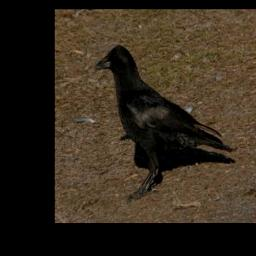Crow: (98, 43, 235, 201)
